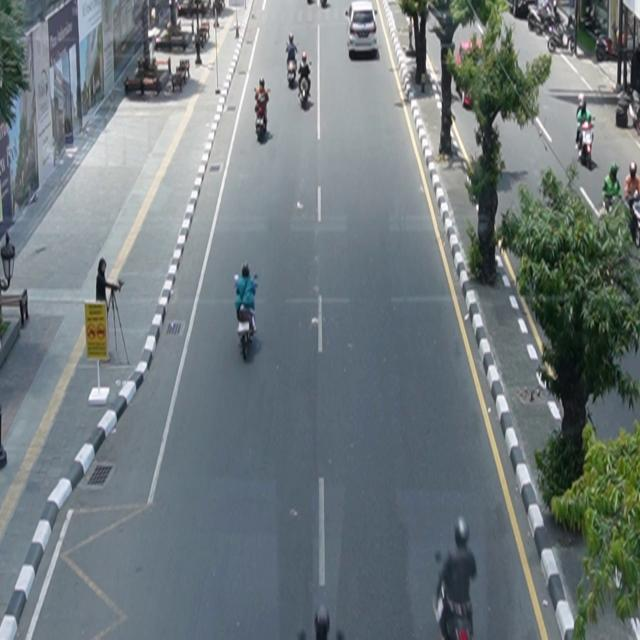car: (345, 1, 378, 57)
